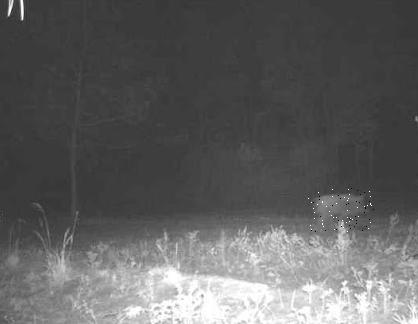Hog: (308, 188, 375, 232)
